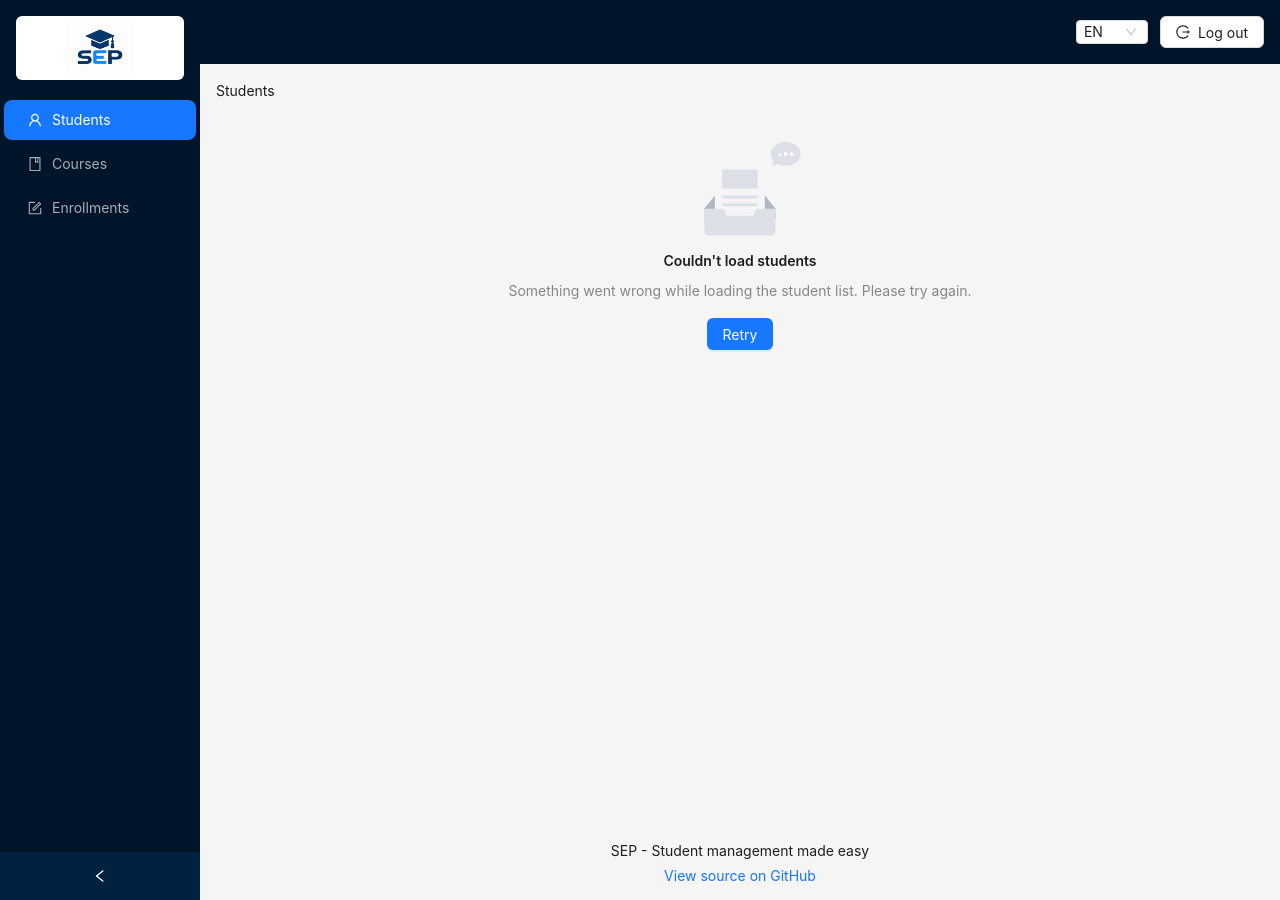
Scenario: App › shows an in-page load error with retry instead of the empty state
Check: the text "Couldn't load students" is shown, box x1=663 y1=252 x2=816 y2=269
Check: the text "Something went wrong while loading the student list. Please try again." is shown, box x1=508 y1=282 x2=972 y2=299
What coordinates should you click on to do the following:
click the button "Retry"
I would click on:
 (740, 334)
Its box is x1=706 y1=318 x2=773 y2=350.
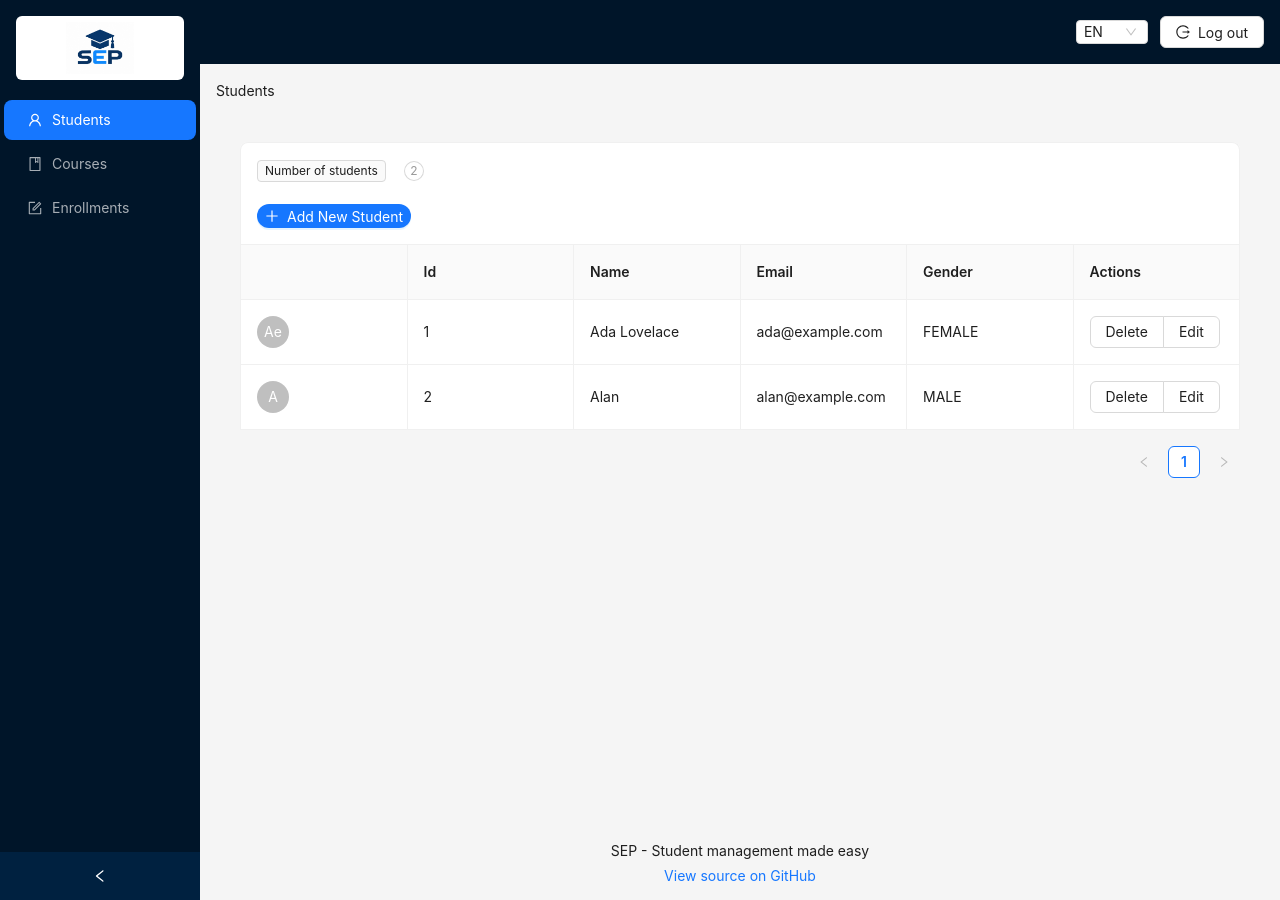
Check: the text "Ada Lovelace" is shown, box x1=574 y1=300 x2=740 y2=365
